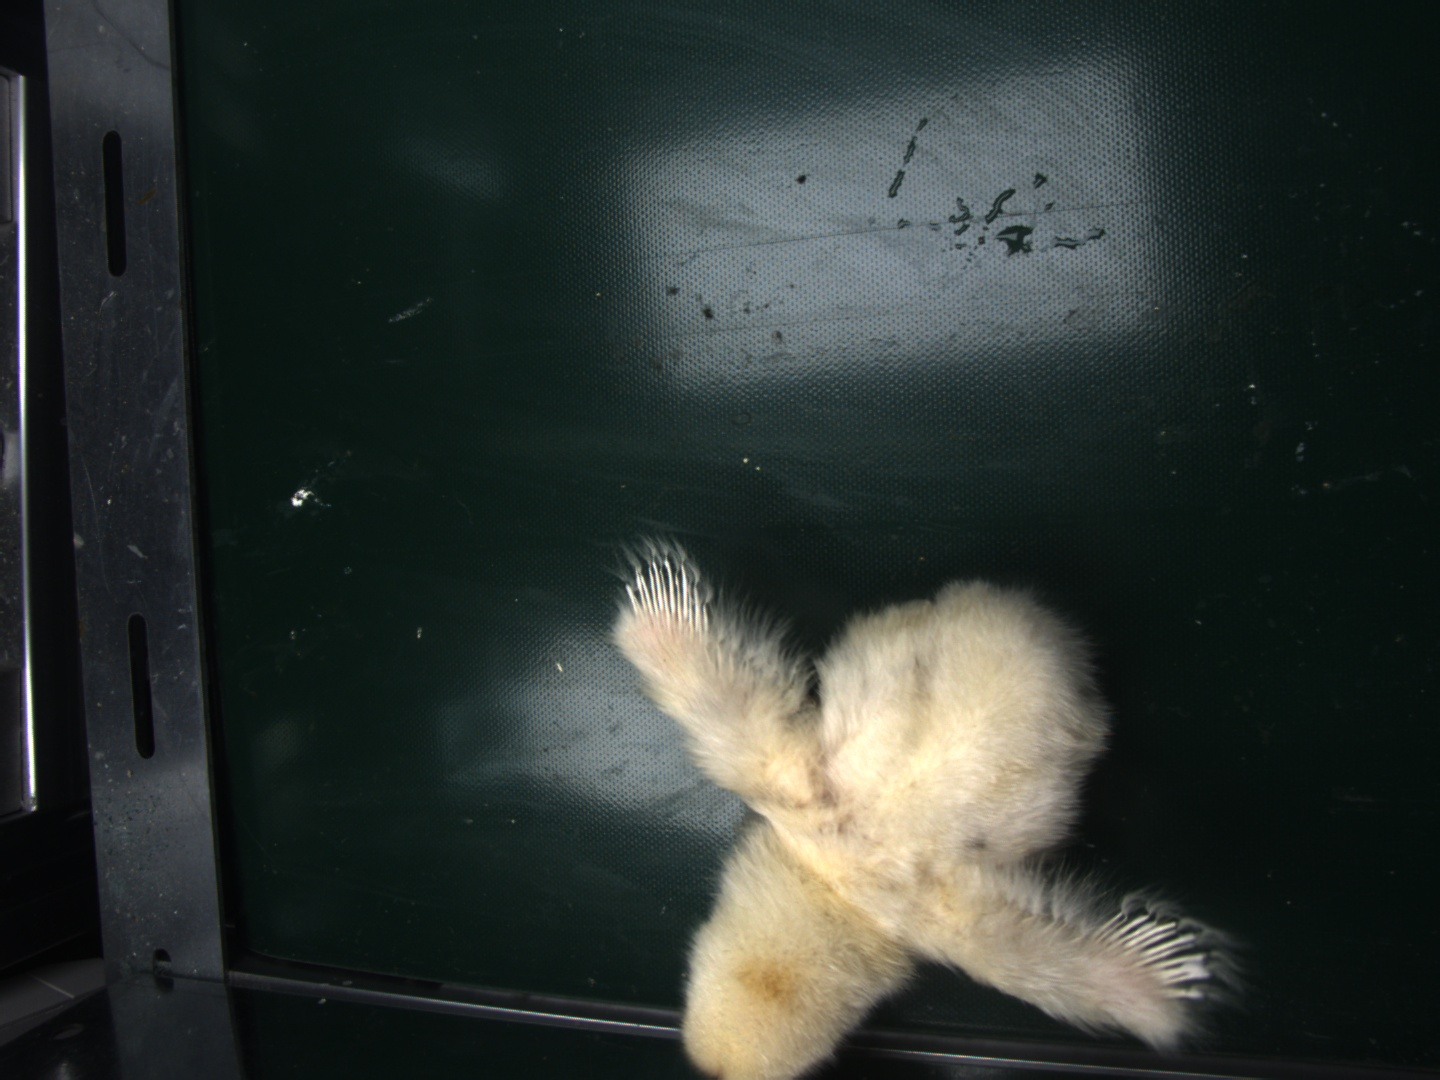male: (1104, 908, 1213, 1007), (625, 555, 708, 636)
